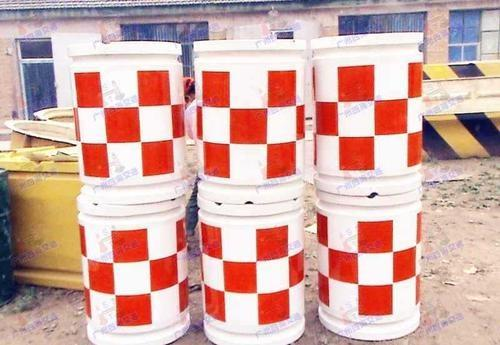cone_barrel: (192, 39, 308, 203), (67, 41, 185, 200), (310, 34, 424, 198), (75, 203, 187, 340), (198, 203, 308, 341), (315, 195, 420, 336)
